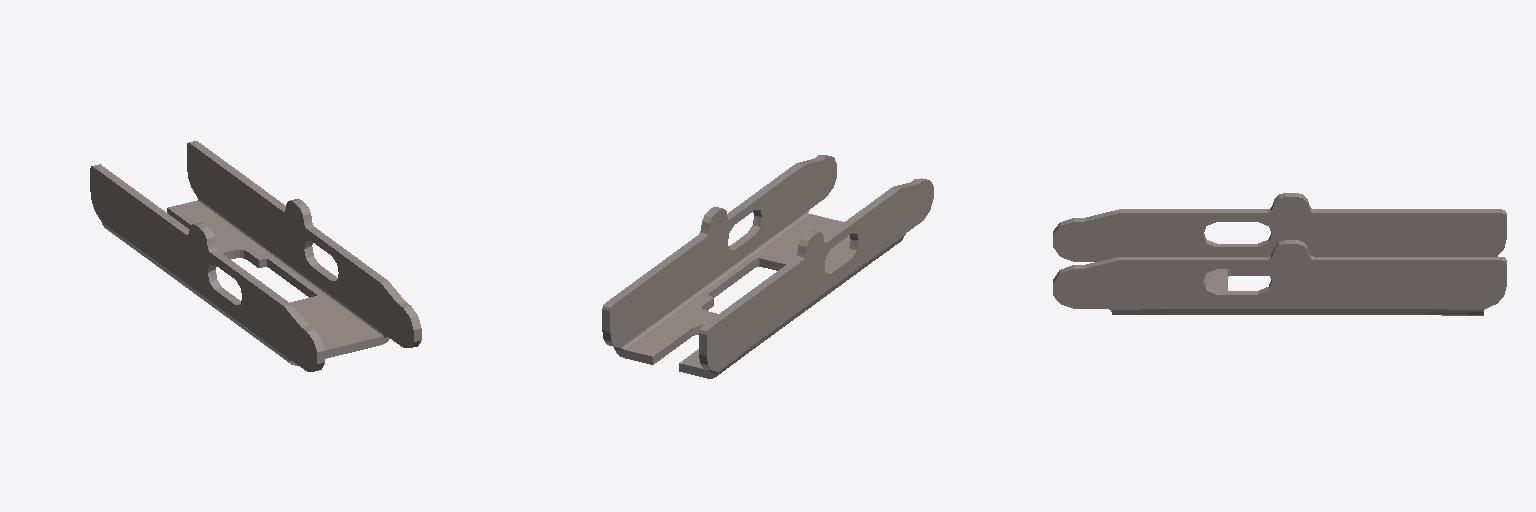
The model's file is Guide_Main_Y180.obj.
3 renders of one model, left to right at view 1: azimuth 30°, elevation 25°; view 2: azimuth 150°, elevation 25°; view 3: azimuth 270°, elevation 25°, orthographic.
Visible parts, largest first — view 1: Guide_Main_mod_(edit_22_05)_MM; view 2: Guide_Main_mod_(edit_22_05)_MM; view 3: Guide_Main_mod_(edit_22_05)_MM.
Part boxes in pixels (left/top/right/bottom): Guide_Main_mod_(edit_22_05)_MM: left=90, top=141, right=421, bottom=371; Guide_Main_mod_(edit_22_05)_MM: left=602, top=155, right=933, bottom=378; Guide_Main_mod_(edit_22_05)_MM: left=1053, top=193, right=1506, bottom=315.
Bounding box in the file's own units: 13 × 9 × 48.85.